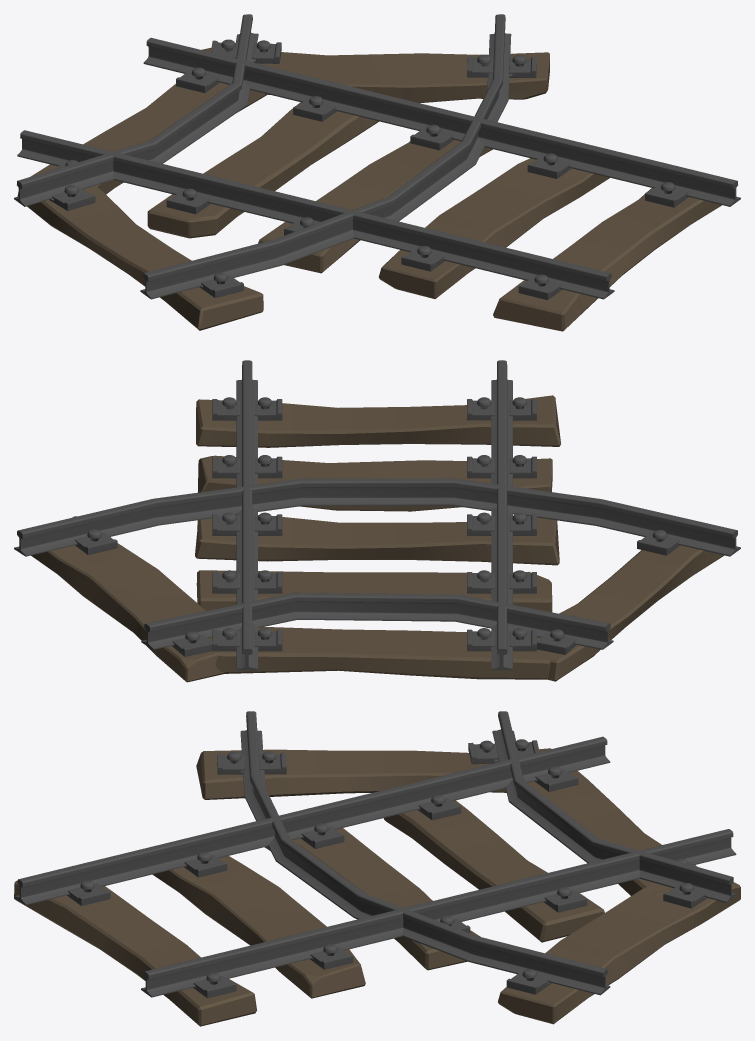
Rendered from SM_railE_v1.fbx.
The picture shows the model from 3 angles, top to bottom: view 1: azimuth 30°, elevation 25°; view 2: azimuth 150°, elevation 25°; view 3: azimuth 270°, elevation 25°; orthographic projection.
Parts seen in each view (by area): view 1: SM_railE2; view 2: SM_railE2; view 3: SM_railE2.
Boxes of the visible parts, bbox=[...] form: SM_railE2: bbox=[14, 14, 740, 331]; SM_railE2: bbox=[14, 360, 740, 682]; SM_railE2: bbox=[14, 711, 740, 1026].
Size of the model in its own units: 8.28 by 0.6459 by 9.33.
